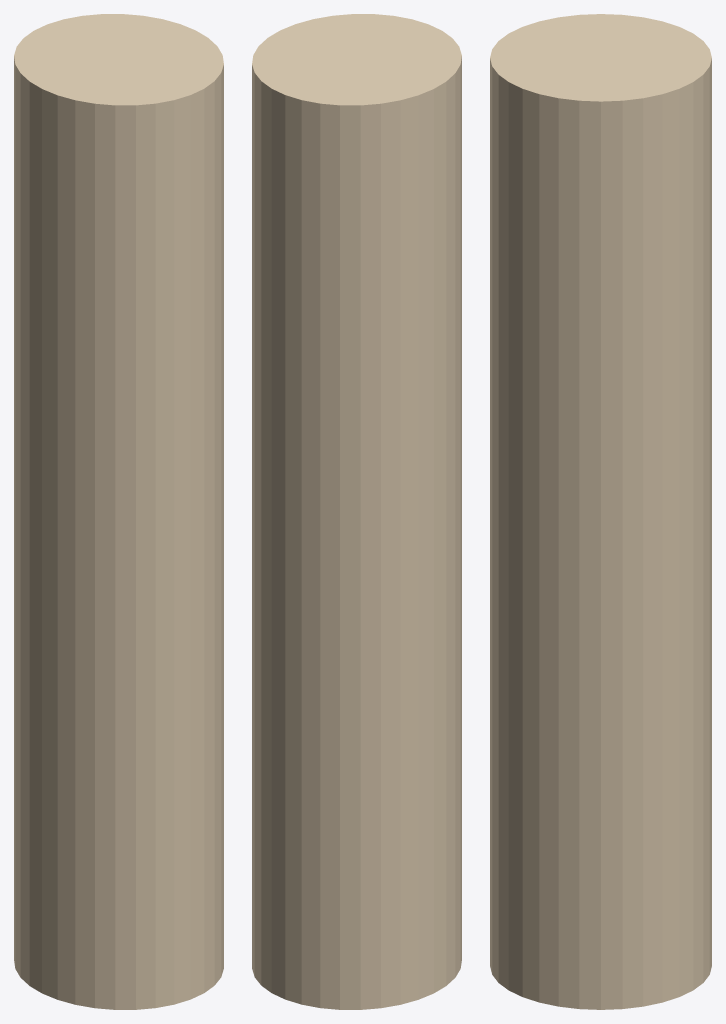
The model's file is Piller2.fbx.
3 renders of one model, left to right at view 1: azimuth 30°, elevation 25°; view 2: azimuth 150°, elevation 25°; view 3: azimuth 270°, elevation 25°, orthographic.
Visible parts, largest first — view 1: Cylinder; view 2: Cylinder; view 3: Cylinder.
Part boxes in pixels (box(x1,y1,x2,y2)): Cylinder: box(14, 14, 223, 1009); Cylinder: box(252, 14, 461, 1009); Cylinder: box(490, 14, 711, 1009).
Size of the model in its own units: 100 by 486 by 107.
